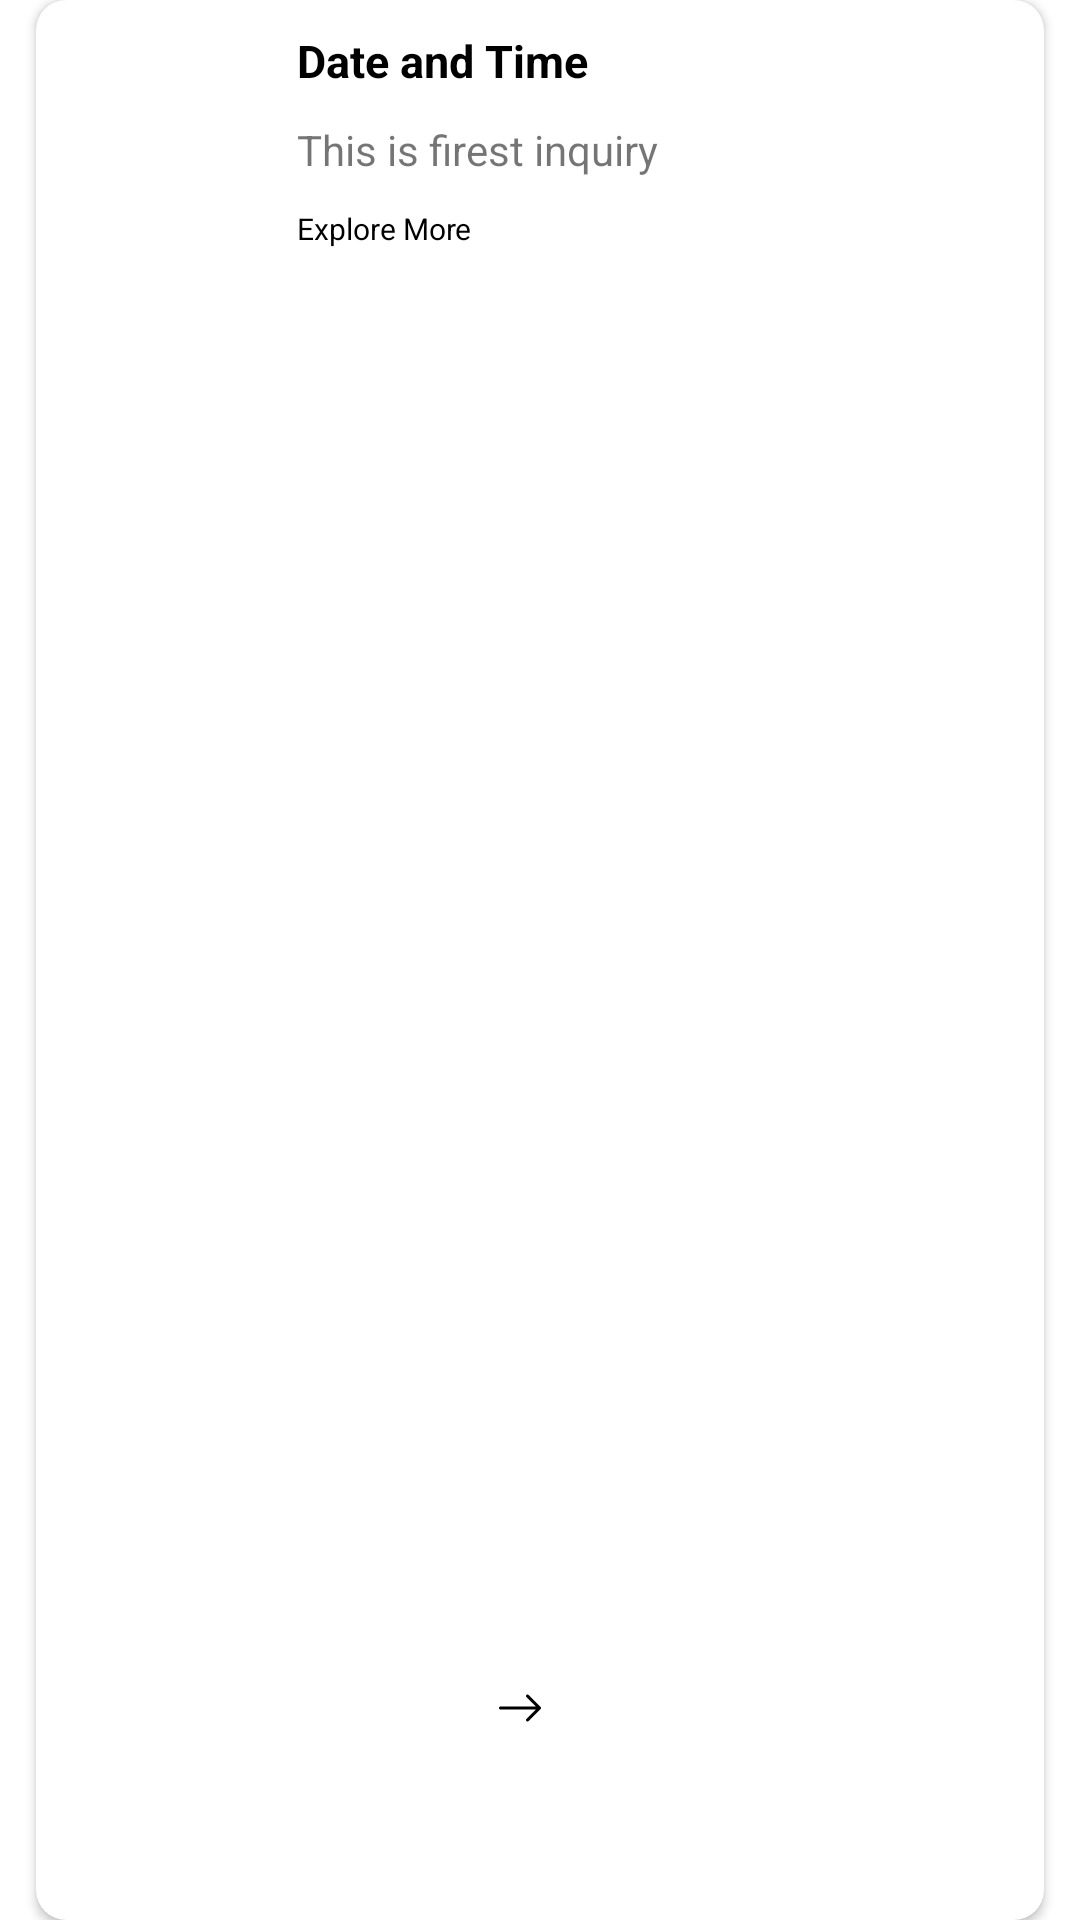

Locate icon controls on the screen. Image size 1080 x 1920, boxes as (x1=x1, y1=y1, x2=x2, y2=y2).
right arrow: (x1=499, y1=1694, x2=541, y2=1722)
